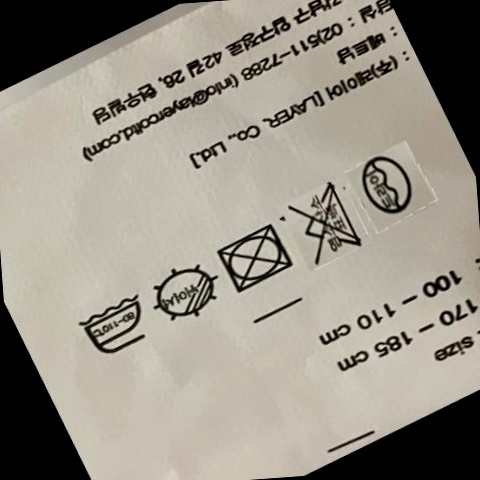DN_bleach: (293, 179, 359, 272)
DN_tumble_dry: (218, 219, 295, 298)
dry_clean: (358, 147, 424, 225)
dry_flat_in_shade: (152, 259, 220, 329)
tumble_dry_low: (76, 286, 155, 364)
